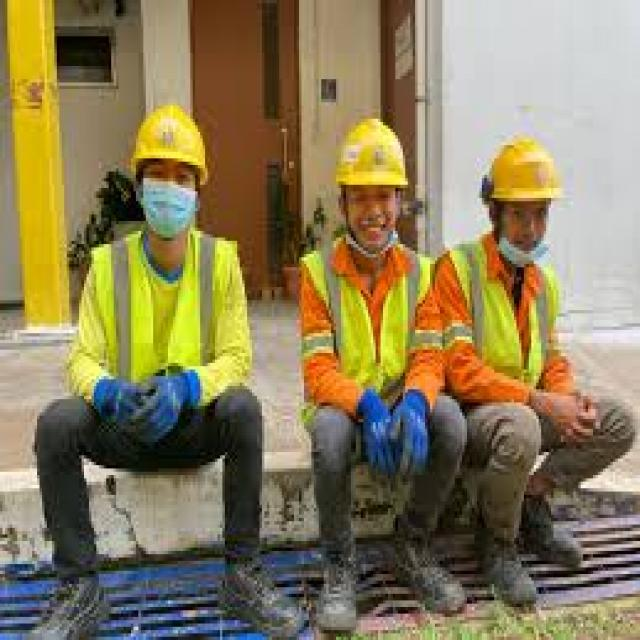Reflective-Jacket: (64, 224, 264, 432), (284, 231, 445, 432), (422, 234, 580, 429)
Safety-Helmet: (467, 122, 581, 224), (321, 106, 420, 211), (121, 92, 220, 192)
